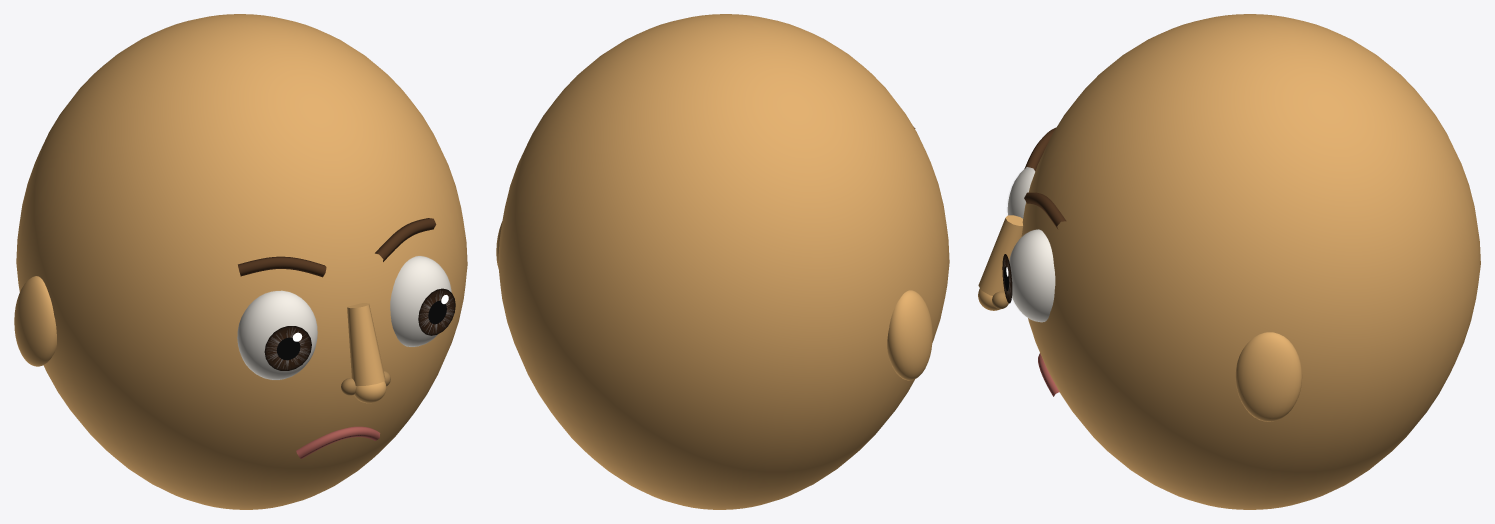
Rendered from 03-moue.glb.
The picture shows the model from 3 angles, left to right: view 1: azimuth 30°, elevation 25°; view 2: azimuth 150°, elevation 25°; view 3: azimuth 270°, elevation 25°; orthographic projection.
Bounding box in the file's own units: 0.3087 × 0.321 × 0.3166.
Materials: 9 (1 with a texture image).
